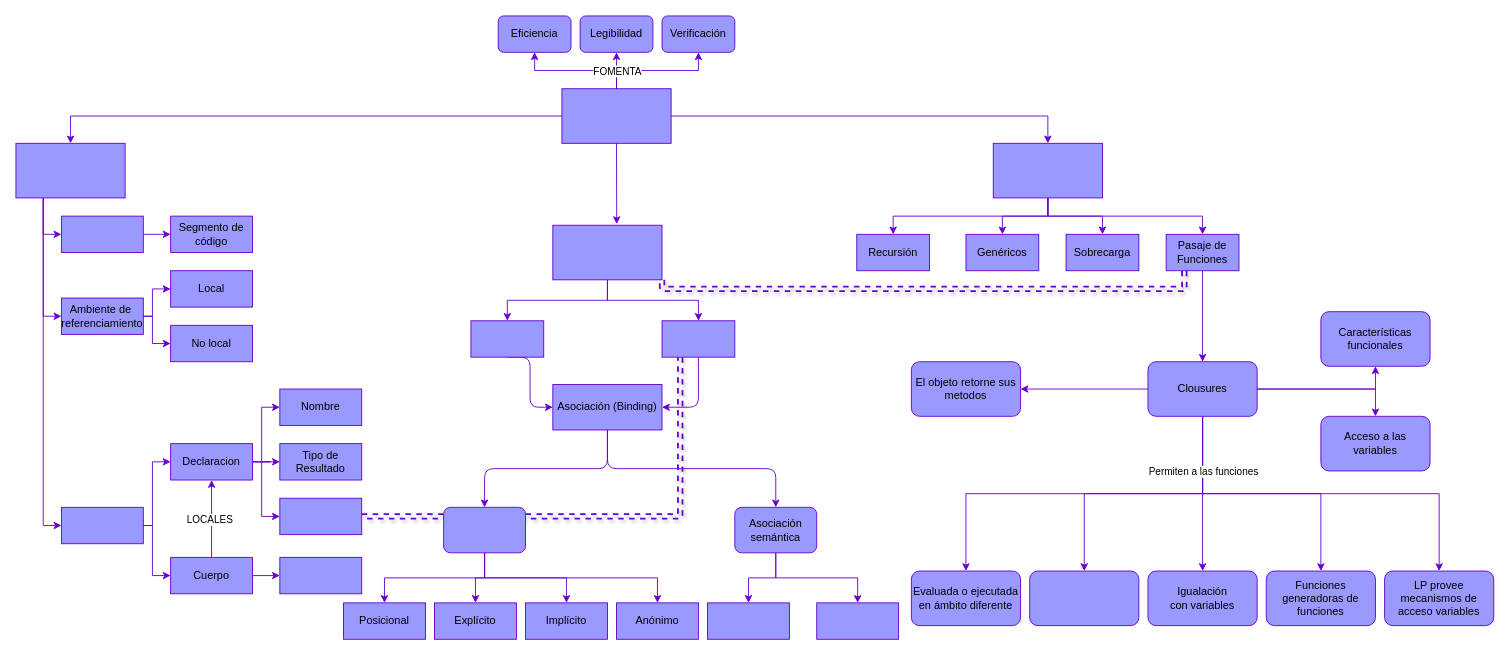
The diagram is 1510 pixels wide and 662 high, and some of its shapes have lost their labels. Each missing label, with the centre of its shape:
"Alcance" belongs at (102,234).
"Asociación sintáctica" belongs at (484,529).
"Atributos" belongs at (70,170).
"Caracteristicas Avanzadas" belongs at (1047,170).
"Copia o valor" belongs at (857,620).
"Definicion" belongs at (102,525).
"Ejecutable" belongs at (320,575).
"Flexibilidad" belongs at (1084,598).
"Formal" belongs at (698,338).
"Lista de Parametros" belongs at (320,516).
"Parámetros" belongs at (607,252).
"Real" belongs at (507,338).
"Referencia" belongs at (748,620).
"Subprograma" belongs at (616,115).
